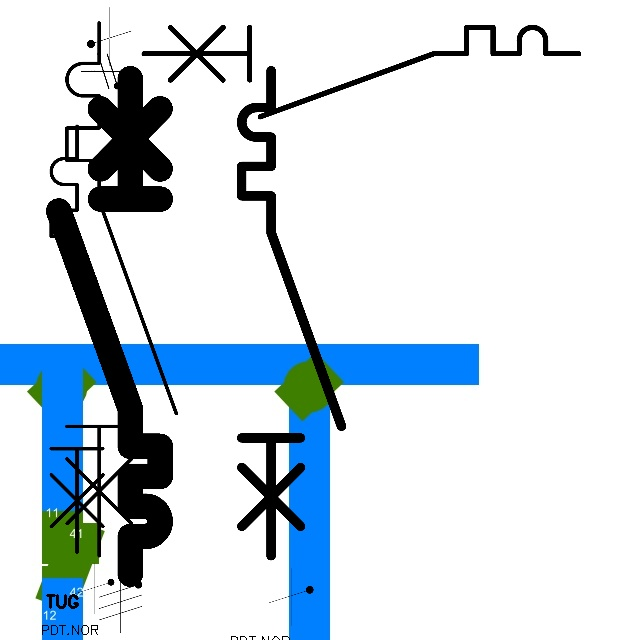interruptor_termomagnetico: (53, 9, 190, 569), (46, 65, 173, 586), (229, 58, 354, 568), (132, 16, 589, 128), (40, 115, 149, 563)
